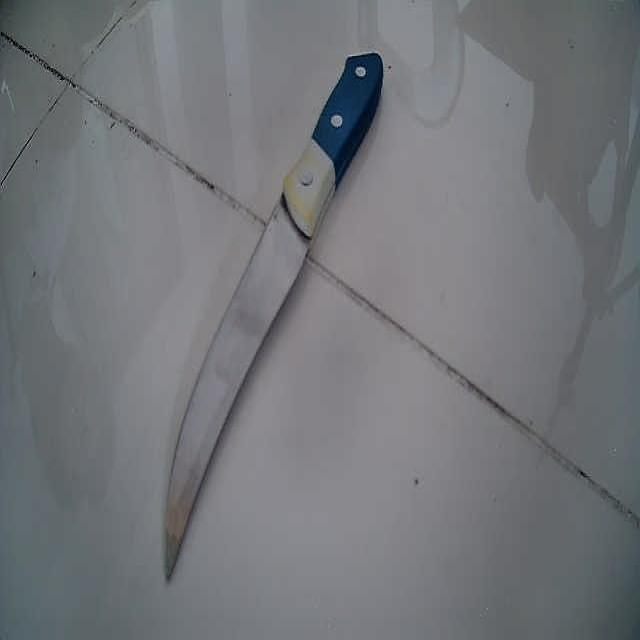knife: (161, 51, 384, 580)
